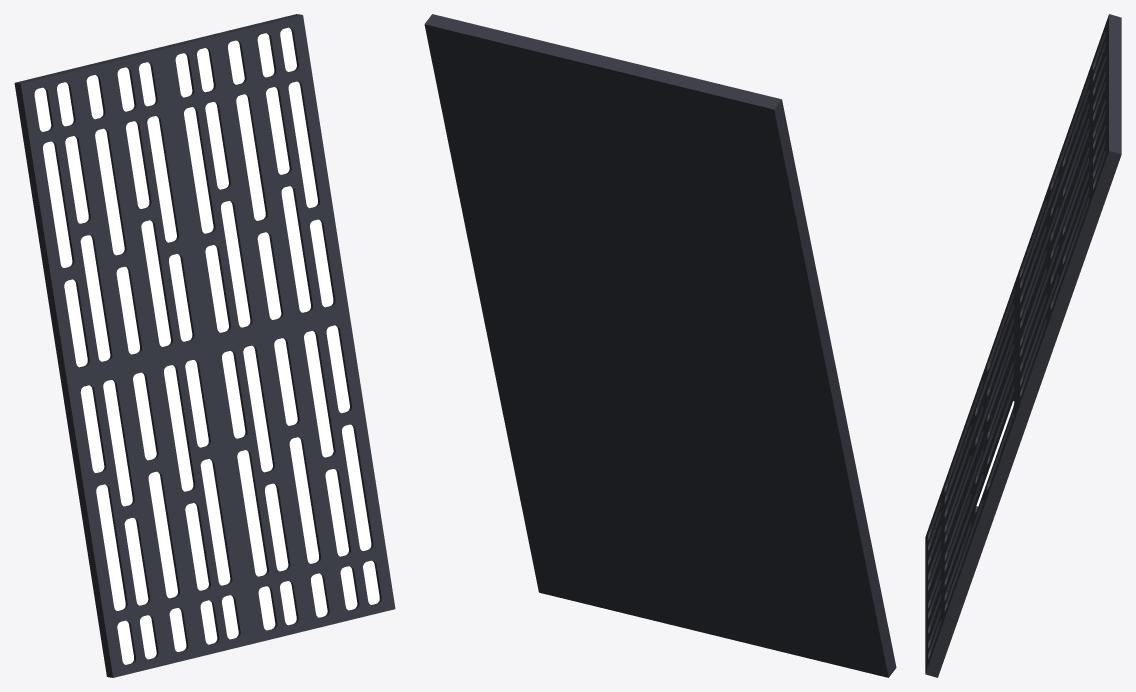
Rendered from light2.glb.
The picture shows the model from 3 angles, left to right: view 1: azimuth 30°, elevation 25°; view 2: azimuth 150°, elevation 25°; view 3: azimuth 270°, elevation 25°; orthographic projection. The views are drawn at different scales.
Parts seen in each view (by area): view 1: Empty_Mesh; view 2: Empty_Mesh; view 3: Empty_Mesh.
Boxes of the visible parts, bbox=[...] form: Empty_Mesh: bbox=[14, 14, 395, 677]; Empty_Mesh: bbox=[424, 14, 896, 677]; Empty_Mesh: bbox=[925, 14, 1121, 677].
Bounding box in the file's own units: 54 × 96.91 × 32.73.
